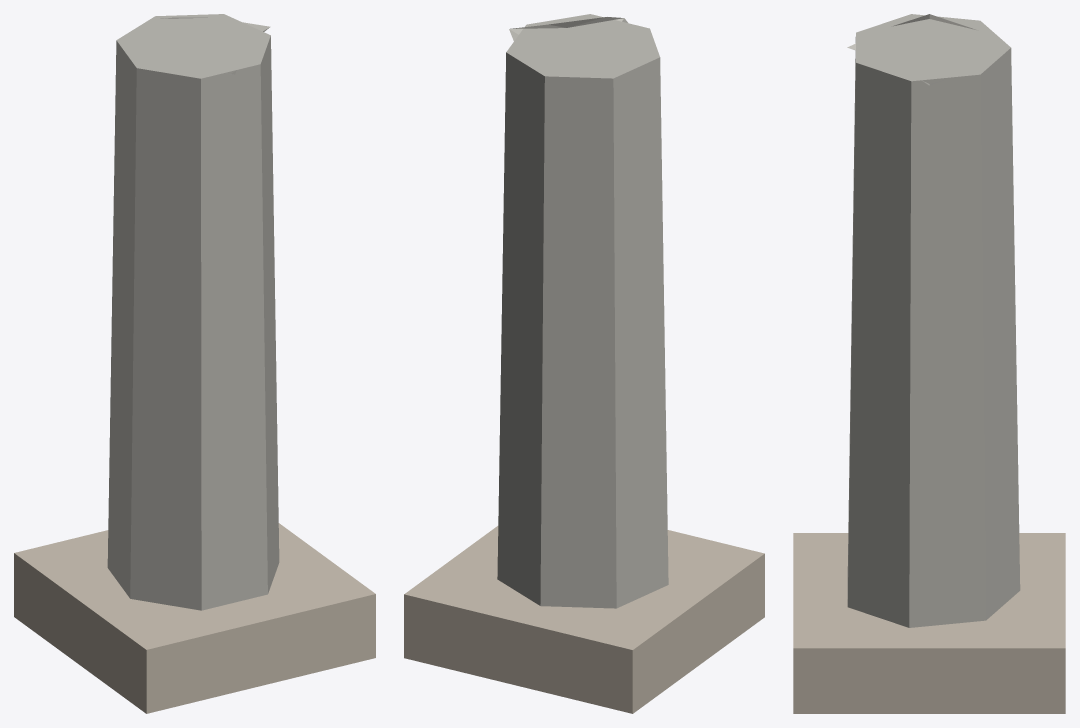
The model's file is column_v16.glb.
3 renders of one model, left to right at view 1: azimuth 30°, elevation 25°; view 2: azimuth 150°, elevation 25°; view 3: azimuth 270°, elevation 25°, orthographic. The views are drawn at different scales.
Parts seen in each view (by area): view 1: lod0; view 2: lod0; view 3: lod0.
Part boxes in pixels (left/top/right/bottom): lod0: left=14, top=14, right=375, bottom=713; lod0: left=404, top=14, right=764, bottom=713; lod0: left=793, top=14, right=1065, bottom=713.
Size of what is drawn, in the model's own units: 0.6 by 1.54 by 0.6.
